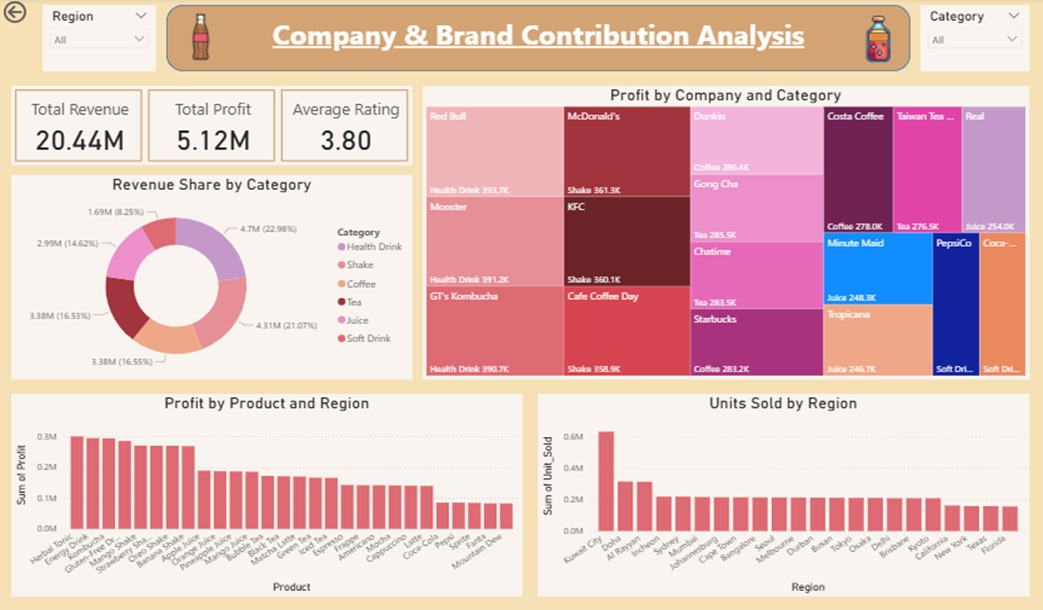

Layout of this report page (visuals, bound fields, positions):
{"tool":"powerbi","page":{"name":"Page 4","canvas":[1400,850],"ordinal":3},"visuals":[{"type":"shape","box":[222.5,10,995.6,92],"z":0},{"type":"textbox","box":[311.2,20.1,818.2,66.9],"z":1000},{"type":"image","box":[1132.8,20.1,85.3,73.6],"z":2000},{"type":"slicer","fields":{"Values":["beverages_data.Region"]},"box":[56.9,10,152.3,92],"z":3000},{"type":"slicer","fields":{"Values":["beverages_data.Category"]},"box":[1231.5,10,145.6,92],"z":4000},{"type":"image","box":[222.5,0,92,107.1],"z":5000},{"type":"cardVisual","fields":{"Data":["Sum(beverages_data.Revenue_USD)","Sum(beverages_data.Profit_USD)","Avg(beverages_data.Rating)"]},"box":[15.1,122.1,537.1,110.4],"z":6000},{"type":"clusteredColumnChart","title":"Units Sold by Region","fields":{"Category":["beverages_data.Region"],"Y":["Sum(beverages_data.Unit_Sold)"]},"box":[719.5,548.8,657.6,281.1],"z":7000},{"type":"donutChart","title":"Revenue Share by Category","fields":{"Category":["beverages_data.Category"],"Y":["Sum(beverages_data.Revenue_USD)"]},"box":[15.1,246,537.1,282.8],"z":8000},{"type":"columnChart","title":"Profit by Product and Region","fields":{"Category":["beverages_data.Product"],"Y":["Sum(beverages_data.Profit_USD)"]},"box":[15.1,548.8,684.4,281.1],"z":9000},{"type":"treemap","title":"Profit by Company and Category","fields":{"Group":["beverages_data.Company"],"Values":["Sum(beverages_data.Profit_USD)"],"Details":["beverages_data.Category"]},"box":[565.6,122.1,811.5,406.6],"z":10000},{"type":"actionButton","box":[0,0,100,40],"z":11000}]}

Visuals, with their boxes on the page's 1400x850 design canvas (x1, y1, x2, y2). These are canvas units, not pixel positions in the 1043x610 screenshot, which may show the page scaled, cropped or inside an application window:
shape: [222,10,1218,102]
textbox: [311,20,1129,87]
image: [1133,20,1218,94]
slicer - beverages_data.Region: [57,10,209,102]
slicer - beverages_data.Category: [1232,10,1377,102]
image: [222,0,314,107]
cardVisual - Sum(beverages_data.Revenue_USD) x Sum(beverages_data.Profit_USD): [15,122,552,232]
"Units Sold by Region" clusteredColumnChart: [720,549,1377,830]
"Revenue Share by Category" donutChart: [15,246,552,529]
"Profit by Product and Region" columnChart: [15,549,700,830]
"Profit by Company and Category" treemap: [566,122,1377,529]
actionButton: [0,0,100,40]
